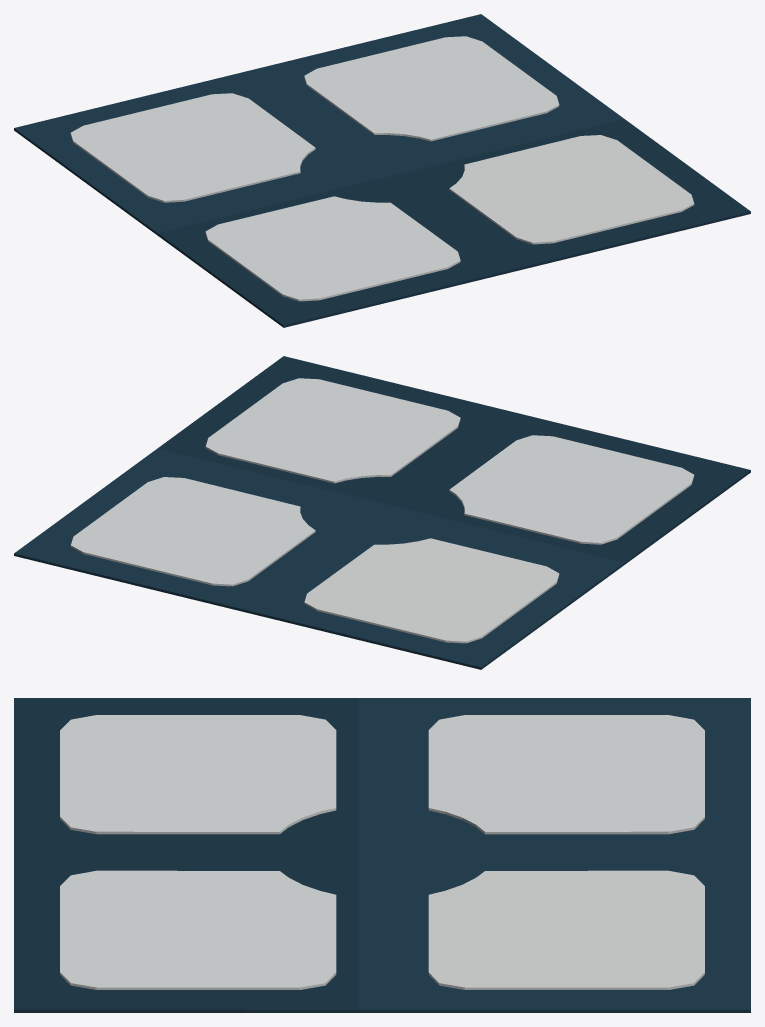
The model's file is Env3_Ground.fbx.
The picture shows the model from 3 angles, top to bottom: view 1: azimuth 30°, elevation 25°; view 2: azimuth 150°, elevation 25°; view 3: azimuth 270°, elevation 25°; orthographic projection. The views are drawn at different scales.
Visible parts, largest first — view 1: Floor_2; view 2: Floor_2; view 3: Floor_2.
Boxes of the visible parts, <box> form: Floor_2: <box>14,14,750,327</box>; Floor_2: <box>14,356,750,669</box>; Floor_2: <box>14,698,750,1012</box>.
Bounding box in the file's own units: 305 × 2.73 × 305.
